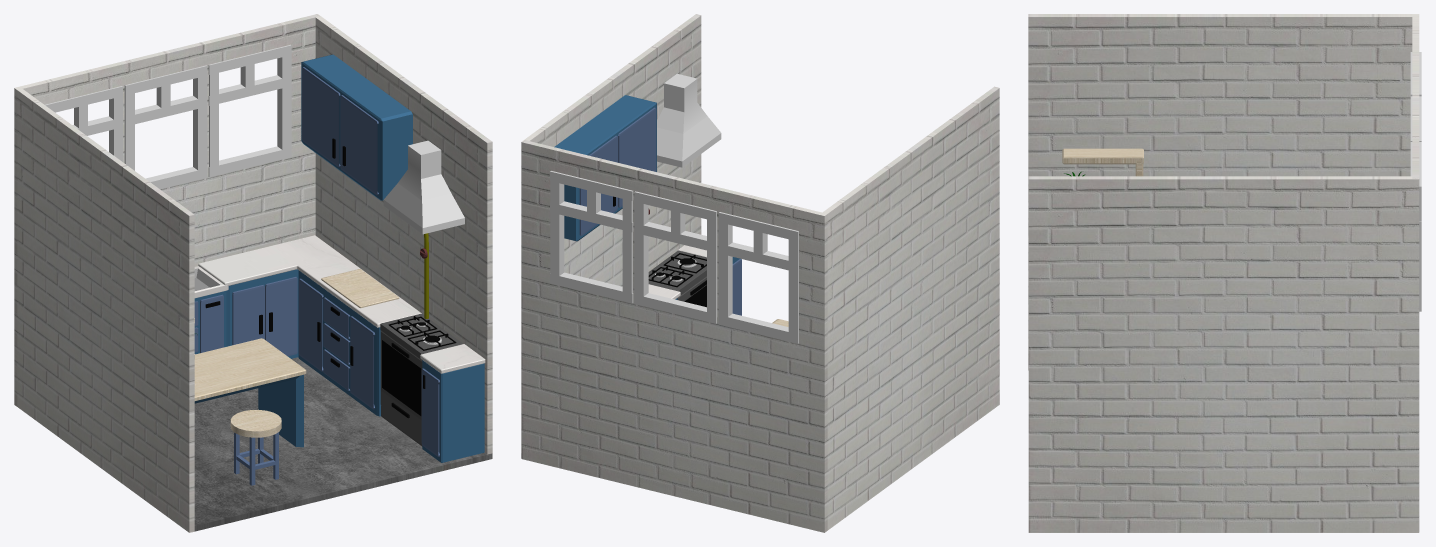
File: Kitchen.fbx
3 renders of one model, left to right at view 1: azimuth 30°, elevation 25°; view 2: azimuth 150°, elevation 25°; view 3: azimuth 270°, elevation 25°, orthographic. The views are drawn at different scales.
Parts seen in each view (by area): view 1: pCube4, pCube2, pCube3, pCube1, pCube28, pCube61, pCube62, pCube68, pCube27, pCube56, pCube64, pCube63 (+29 smaller); view 2: pCube3, pCube4, pCube2, pCube62, pCube61, pCube63, pCube8, pCube6, pCube9, pCube57, pCube7, pCube5 (+11 smaller); view 3: pCube2, pCube4, pCube3, pCube92.
Boxes of the visible parts, box(x1,y1,x2,y2) form: pCube4: box(16, 87, 194, 532); pCube2: box(315, 14, 492, 458); pCube3: box(14, 14, 319, 406); pCube1: box(194, 357, 492, 531); pCube28: box(198, 235, 421, 327); pCube61: box(301, 54, 412, 200); pCube62: box(383, 140, 464, 234); pCube68: box(194, 338, 306, 400); pCube27: box(422, 360, 484, 462); pCube56: box(380, 330, 422, 446); pCube64: box(302, 67, 340, 167); pCube63: box(340, 95, 378, 195); pCube3: box(522, 140, 827, 532); pCube4: box(822, 86, 999, 530); pCube2: box(521, 14, 701, 458); pCube62: box(657, 73, 721, 167); pCube61: box(554, 95, 656, 241); pCube63: box(618, 107, 656, 207); pCube8: box(550, 172, 564, 285); pCube6: box(718, 212, 732, 326); pCube9: box(634, 192, 648, 304); pCube57: box(648, 250, 706, 294); pCube7: box(707, 210, 717, 323); pCube5: box(788, 230, 798, 343); pCube2: box(1028, 176, 1418, 532); pCube4: box(1028, 14, 1418, 370); pCube3: box(1412, 14, 1419, 532); pCube92: box(1062, 148, 1143, 164).
Size of the model in its own units: 17.07 by 17.03 by 17.17.
Materials: 22 (6 with a texture image).
